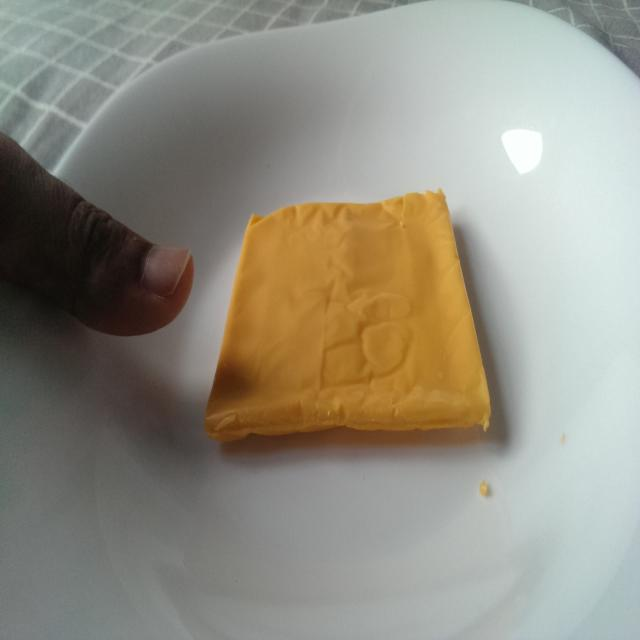cheese: (203, 187, 563, 510)
